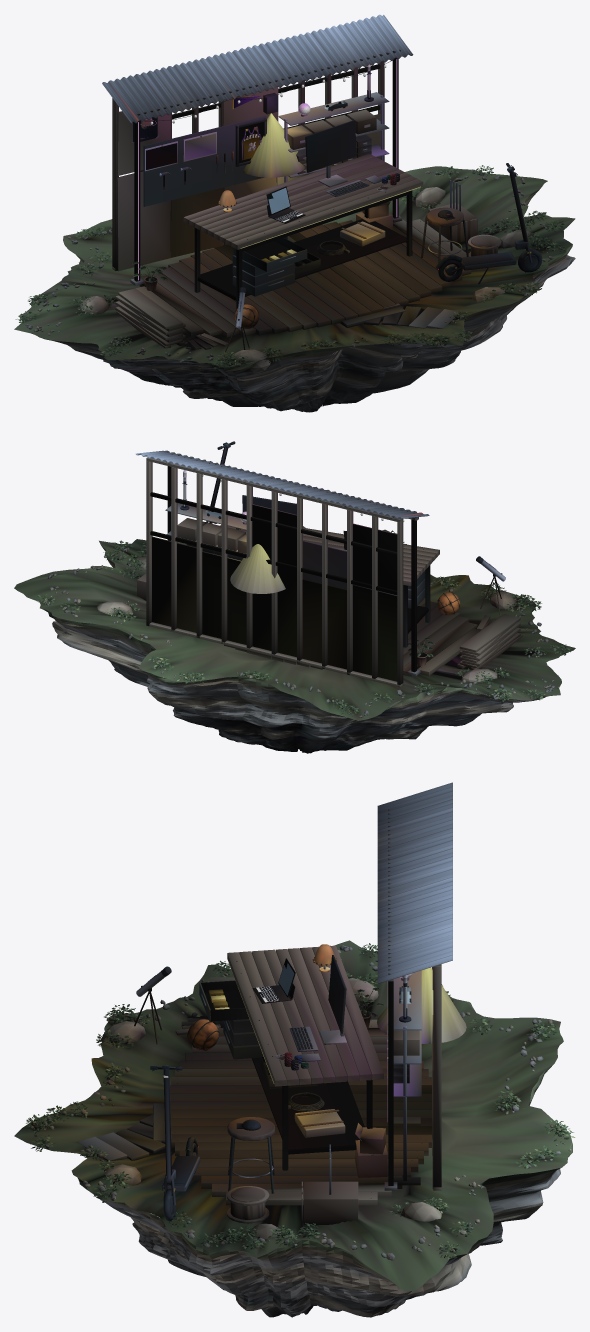
The model's file is flight-projects-5cdc33a9.glb.
3 renders of one model, top to bottom at view 1: azimuth 30°, elevation 25°; view 2: azimuth 150°, elevation 25°; view 3: azimuth 270°, elevation 25°, orthographic. The views are drawn at different scales.
Visible parts, largest first — view 1: Projects island · flight.001; view 2: Projects island · flight.001; view 3: Projects island · flight.001.
Boxes of the visible parts, bbox=[...] form: Projects island · flight.001: bbox=[14, 14, 575, 412]; Projects island · flight.001: bbox=[14, 441, 575, 753]; Projects island · flight.001: bbox=[14, 782, 575, 1317].
Bounding box in the file's own units: 12.7 × 7.16 × 8.69.
